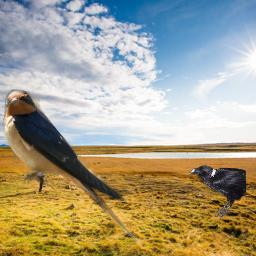Crow: (189, 165, 246, 220)
Swallow: (2, 89, 143, 248)
